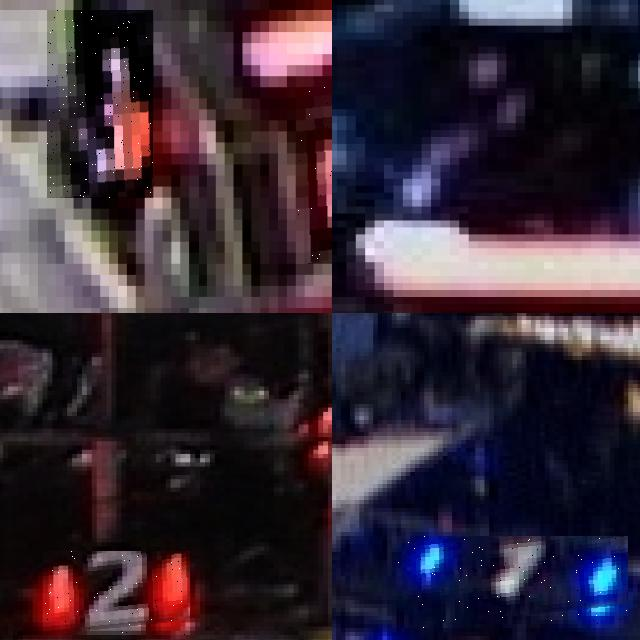B1: (396, 536, 628, 628)
R2: (43, 551, 190, 635)
R3: (47, 10, 153, 198)
